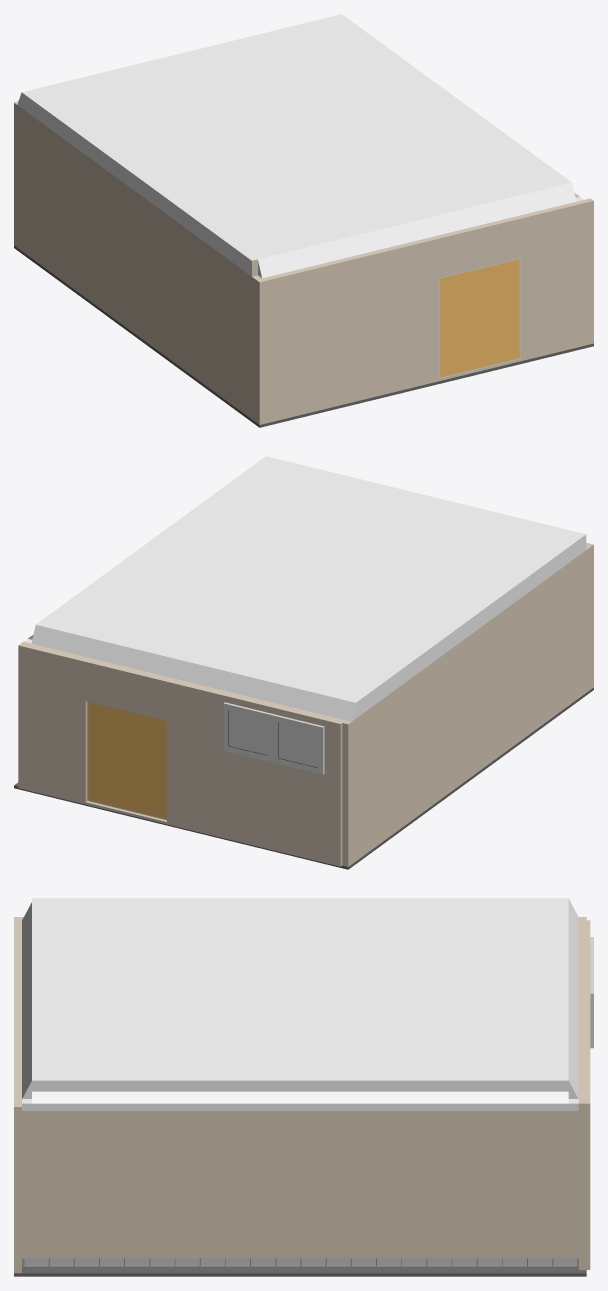
Rendered from RoomLab.fbx.
3 views of the same model, one above another, from view 1: azimuth 30°, elevation 25°; view 2: azimuth 150°, elevation 25°; view 3: azimuth 270°, elevation 25° (orthographic). The views are drawn at different scales.
Visible parts, largest first — view 1: Roof, MainWall, LeftWall, DoorMainEntrance, Floor; view 2: Roof, LeftWall, BackWall, DoorBackSide, Glass, Winodow, Floor, MainWall; view 3: Roof, RightWall, Floor, FloorPlate, BackWall, MainWall.
Boxes of the visible parts, x1,y1,x2,y2 form: Roof: [17, 14, 584, 278]; MainWall: [256, 198, 593, 424]; LeftWall: [14, 101, 261, 422]; DoorMainEntrance: [439, 258, 520, 378]; Floor: [14, 245, 593, 427]; Roof: [23, 456, 586, 721]; LeftWall: [342, 546, 590, 866]; BackWall: [18, 642, 345, 866]; DoorBackSide: [87, 701, 166, 820]; Glass: [229, 710, 317, 767]; Winodow: [223, 702, 324, 774]; Floor: [14, 687, 593, 869]; MainWall: [586, 542, 593, 689]; Roof: [22, 898, 578, 1110]; RightWall: [22, 1111, 578, 1258]; Floor: [14, 1259, 586, 1276]; FloorPlate: [23, 1258, 578, 1266]; BackWall: [578, 920, 590, 1269]; MainWall: [14, 917, 21, 1273].
Size of the model in its own units: 11000 by 5073 by 14182.
